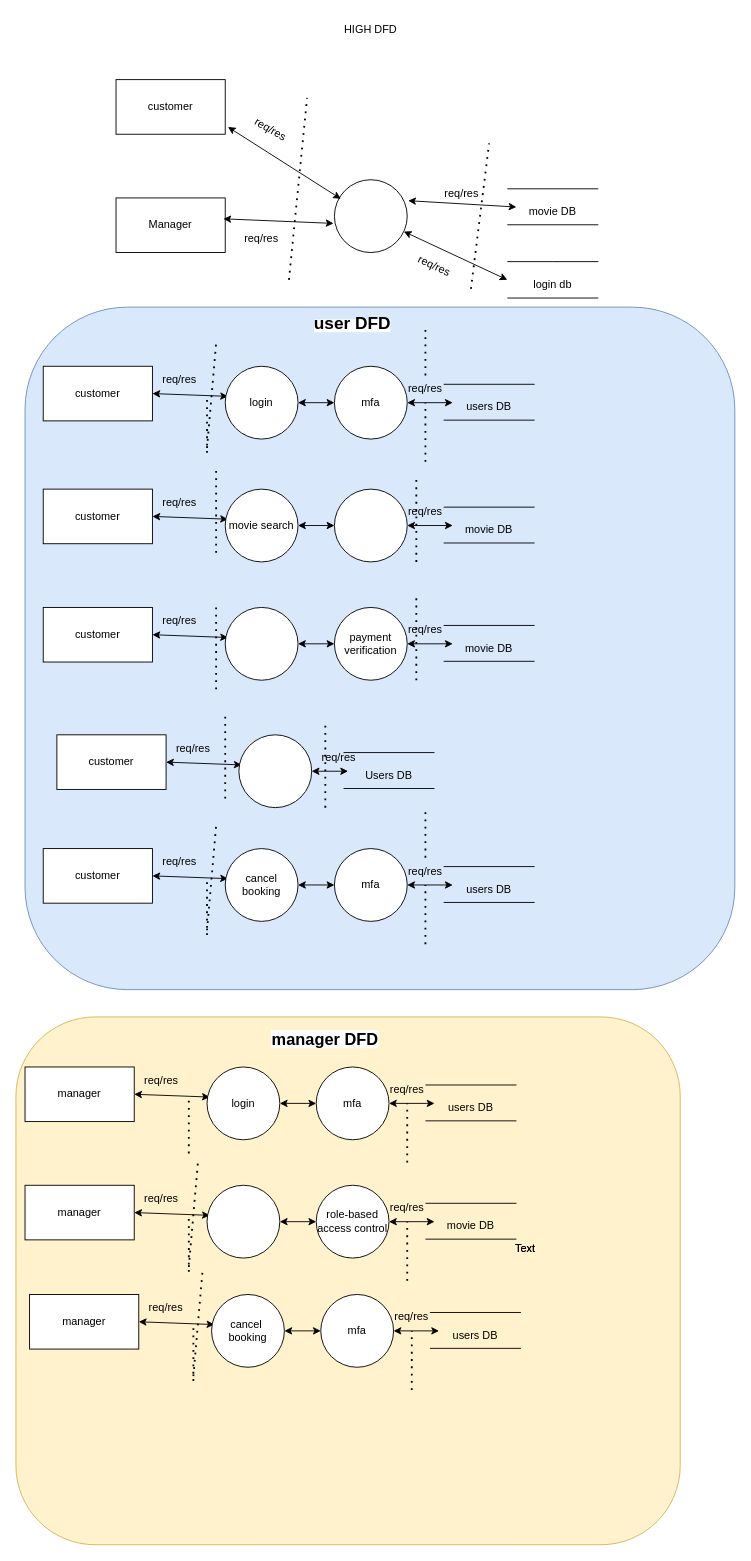
Some shapes in this 751 by 1561 pixel diagram are drawn without their labels. The centre of each missing label's shape, as x and y in pixels:
input validation: (x=370, y=525)
Movie theater System: (x=370, y=216)
schedule movie: (x=243, y=1221)
ticket booking: (x=261, y=643)
view booking: (x=275, y=771)
